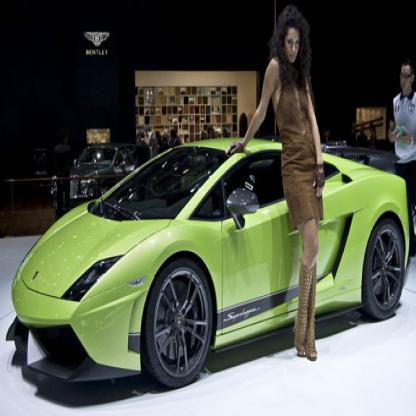Vehicle: (7, 139, 410, 383)
